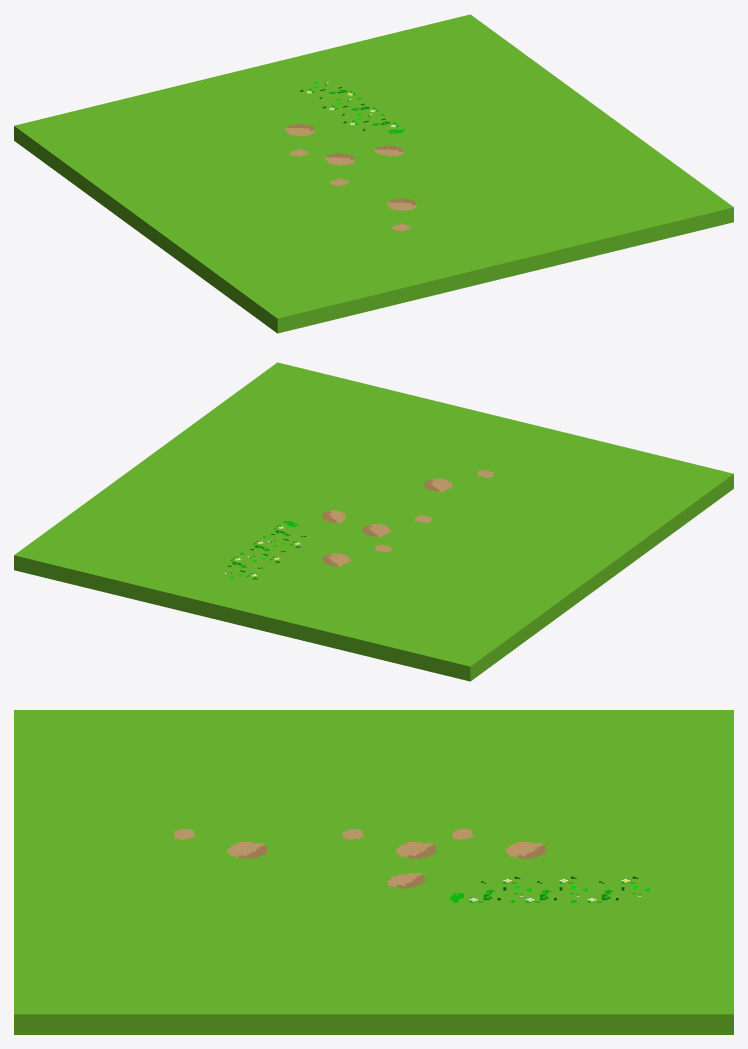
Rendered from map_v1-1.obj.
3 views of the same model, one above another, from view 1: azimuth 30°, elevation 25°; view 2: azimuth 150°, elevation 25°; view 3: azimuth 270°, elevation 25° (orthographic). The views are drawn at different scales.
Bounding box in the file's own units: 25.6 × 0.8 × 25.6.
1 material, 1 textured.
